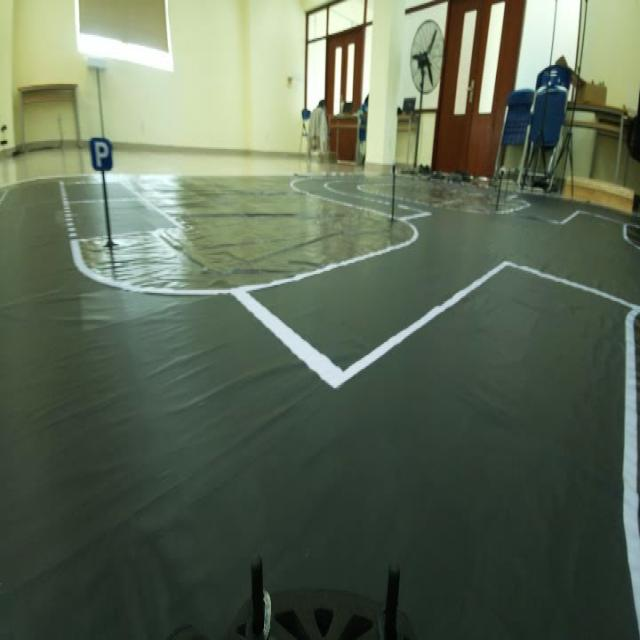parking: (86, 127, 118, 171)
